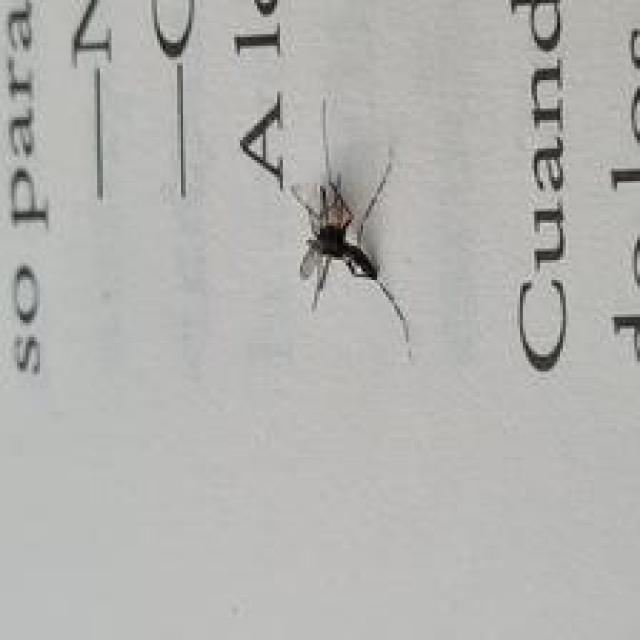Aedes albopictus: (284, 97, 413, 357)
